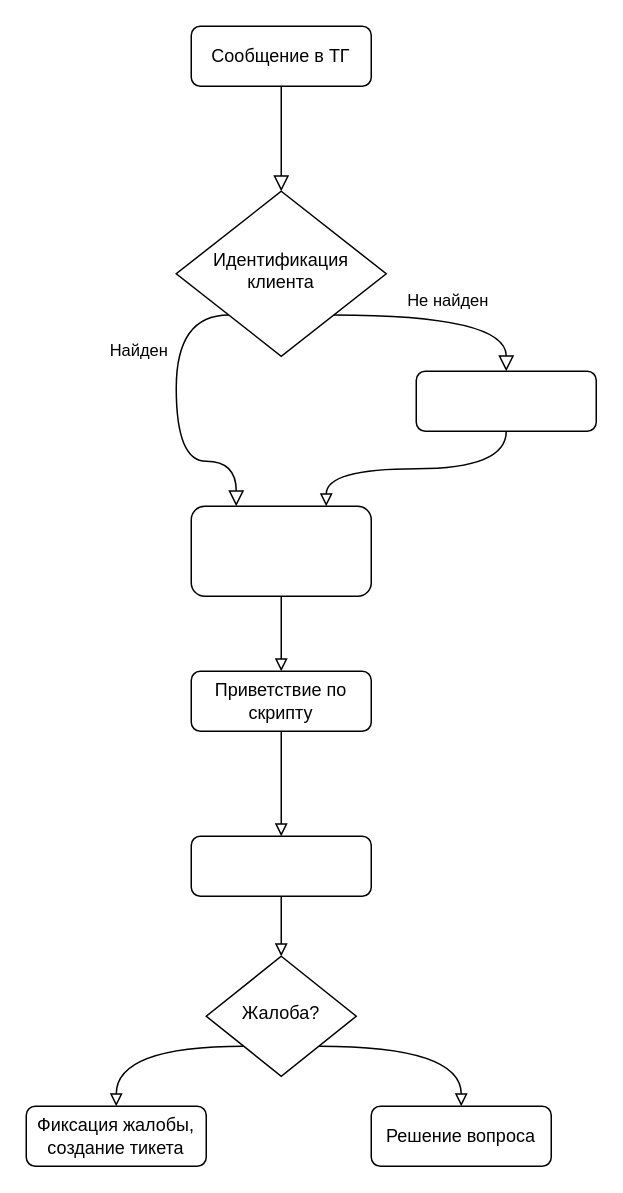
This 623x1193 diagram has some shape labels left out. The centre of each missing label's shape, as x and y in pixels:
Загрузка данных: заказы, жалобы, куртер: pixel 280 550
Запрос ФИО, создание профиля: pixel 505 400
Консультация: pixel 280 865
